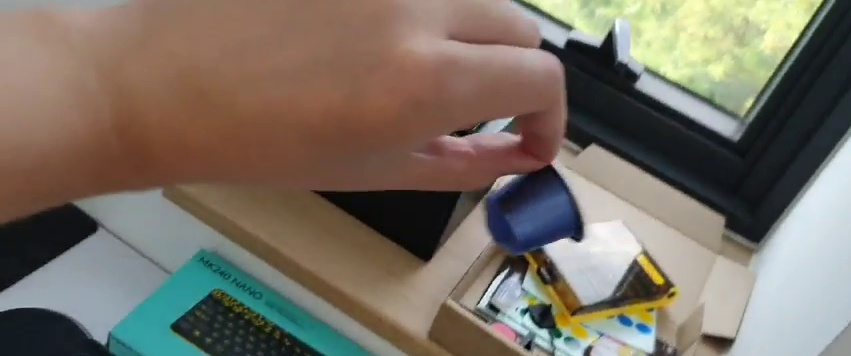capsule_7: (484, 159, 587, 256)
